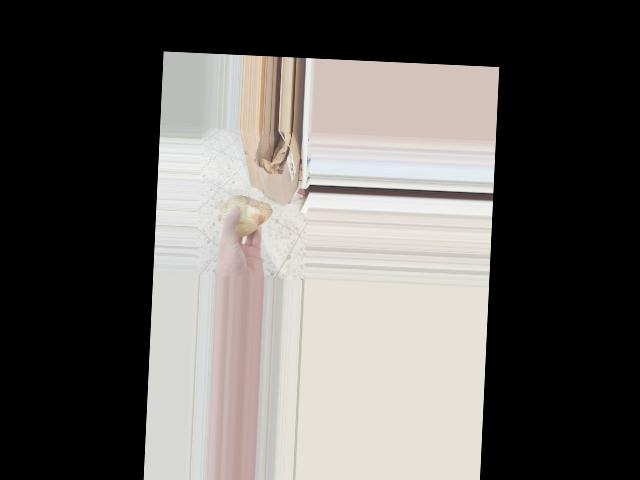onion: (215, 188, 271, 241)
